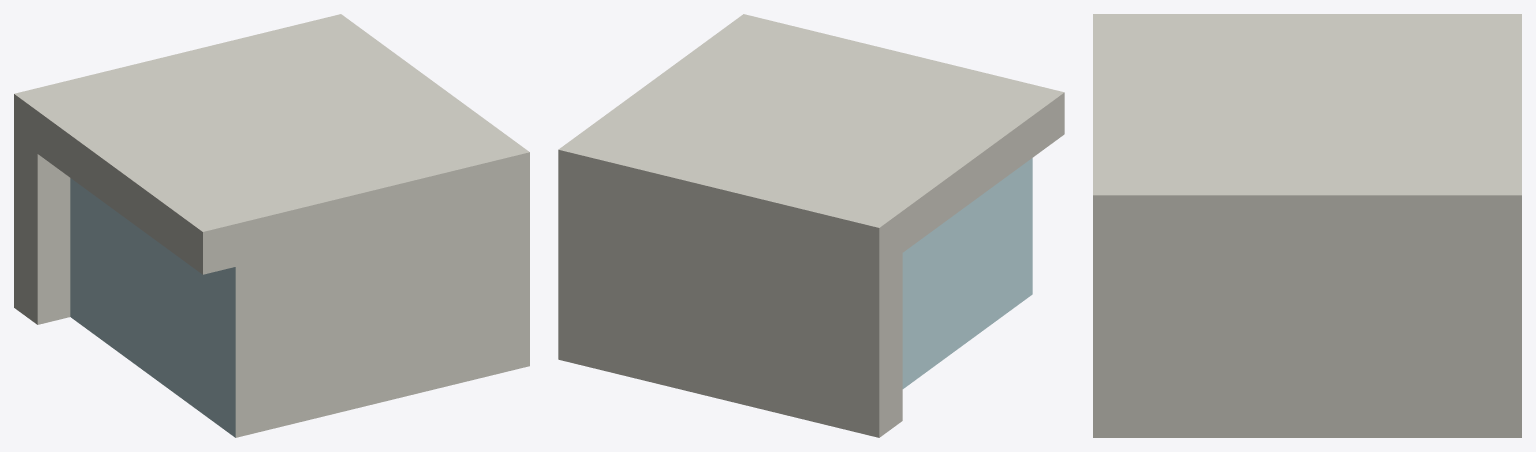
Rendered from building_059.glb.
3 views of the same model, side by side, from view 1: azimuth 30°, elevation 25°; view 2: azimuth 150°, elevation 25°; view 3: azimuth 270°, elevation 25° (orthographic). The views are drawn at different scales.
Parts seen in each view (by area): view 1: building_059; view 2: building_059; view 3: building_059.
Boxes of the visible parts, x1=… form: building_059: x1=14, y1=14, x2=529, y2=437; building_059: x1=558, y1=14, x2=1064, y2=437; building_059: x1=1093, y1=14, x2=1521, y2=437.
Bounding box in the file's own units: 1 × 0.625 × 1.
